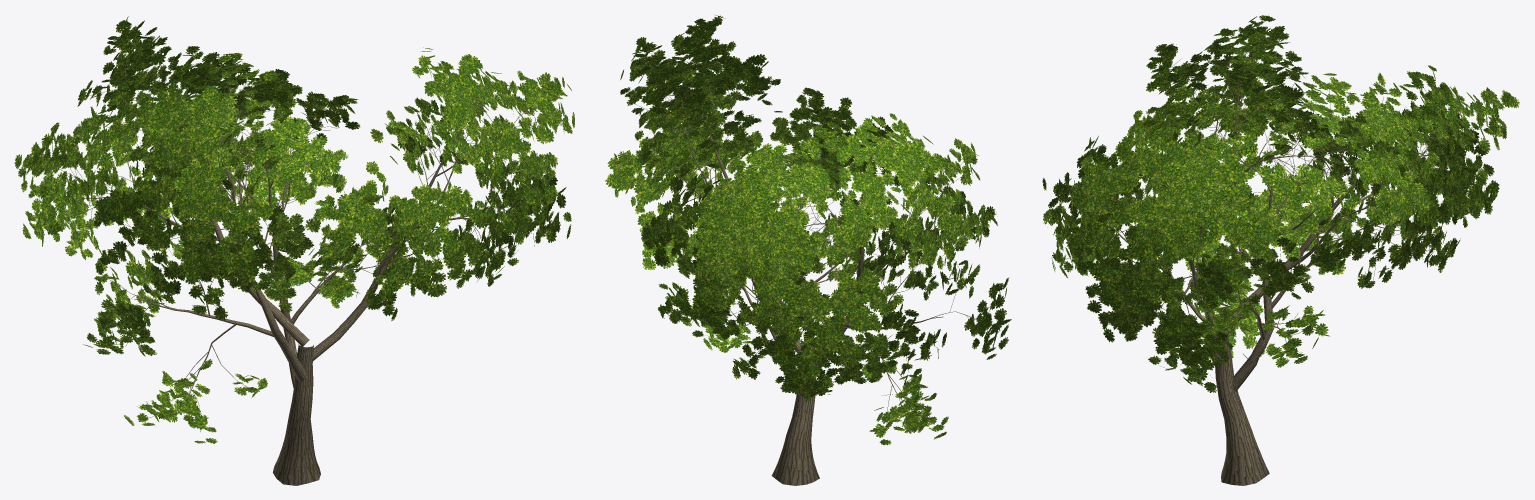
Rendered from tree-oak-b.glb.
3 renders of one model, left to right at view 1: azimuth 30°, elevation 25°; view 2: azimuth 150°, elevation 25°; view 3: azimuth 270°, elevation 25°, orthographic. The views are drawn at different scales.
Visible parts, largest first — view 1: leaves, bark; view 2: leaves, bark; view 3: leaves, bark.
Boxes of the visible parts, x1=… form: leaves: x1=14, y1=16, x2=574, y2=443; bark: x1=27, y1=41, x2=563, y2=485; leaves: x1=605, y1=15, x2=1011, y2=445; bark: x1=622, y1=42, x2=998, y2=485; leaves: x1=1042, y1=15, x2=1519, y2=392; bark: x1=1059, y1=42, x2=1499, y2=485.
Bounding box in the file's own units: 15.65 × 13.54 × 14.42.
2 materials, 2 textured.
